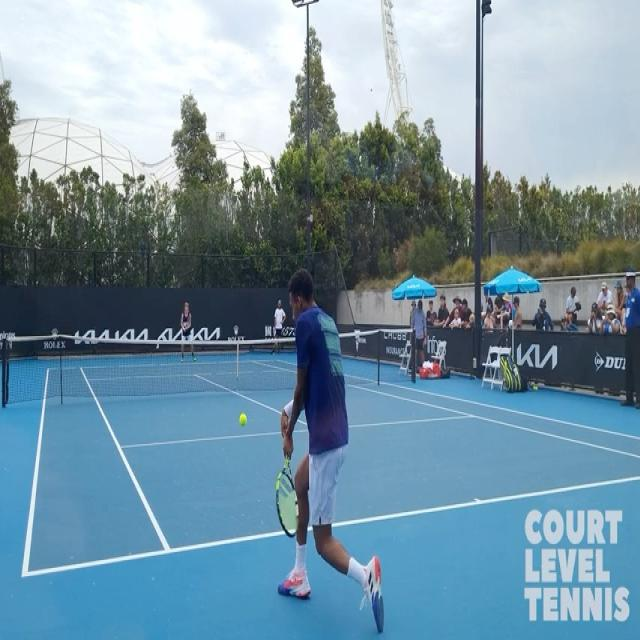backhand-stroke: (272, 248, 401, 640)
